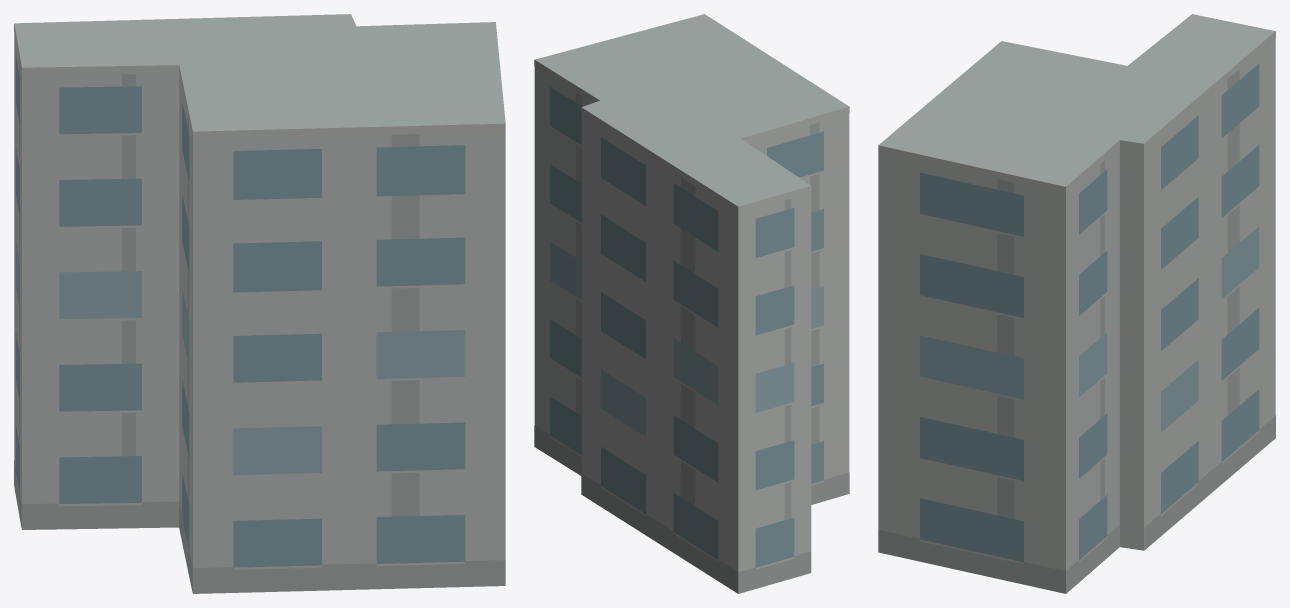
The model's file is survey-upis-32727010.glb.
3 views of the same model, side by side, from view 1: azimuth 30°, elevation 25°; view 2: azimuth 150°, elevation 25°; view 3: azimuth 270°, elevation 25° (orthographic). The views are drawn at different scales.
Visible parts, largest first — view 1: survey-upis-32727010.tmp; view 2: survey-upis-32727010.tmp; view 3: survey-upis-32727010.tmp.
Part boxes in pixels (x1,y1,x2,y2): survey-upis-32727010.tmp: [14, 14, 505, 593]; survey-upis-32727010.tmp: [534, 14, 849, 593]; survey-upis-32727010.tmp: [878, 14, 1275, 593].
Size of the model in its own units: 12.48 by 13.7 by 12.13.
